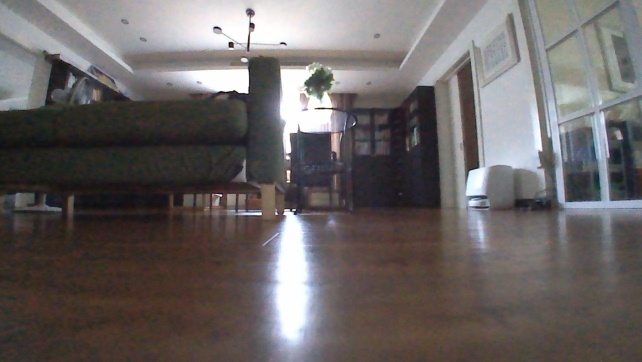sofa1: (0, 54, 292, 220)
